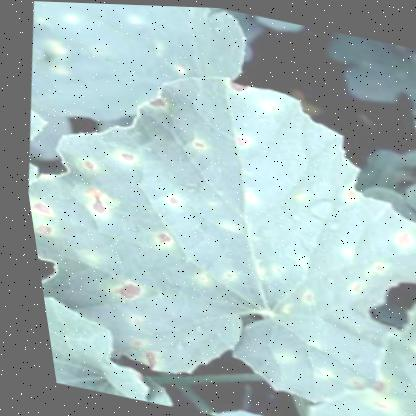AlternariaBrassicicola: (94, 272, 144, 306), (71, 180, 111, 217), (377, 217, 414, 249), (23, 193, 61, 220), (179, 130, 208, 152), (71, 153, 101, 172), (220, 74, 251, 92), (143, 227, 171, 246), (26, 219, 54, 237), (332, 182, 357, 202), (334, 273, 360, 292), (111, 145, 137, 164), (224, 130, 252, 147), (289, 282, 312, 301), (357, 254, 384, 270), (158, 190, 180, 206)
